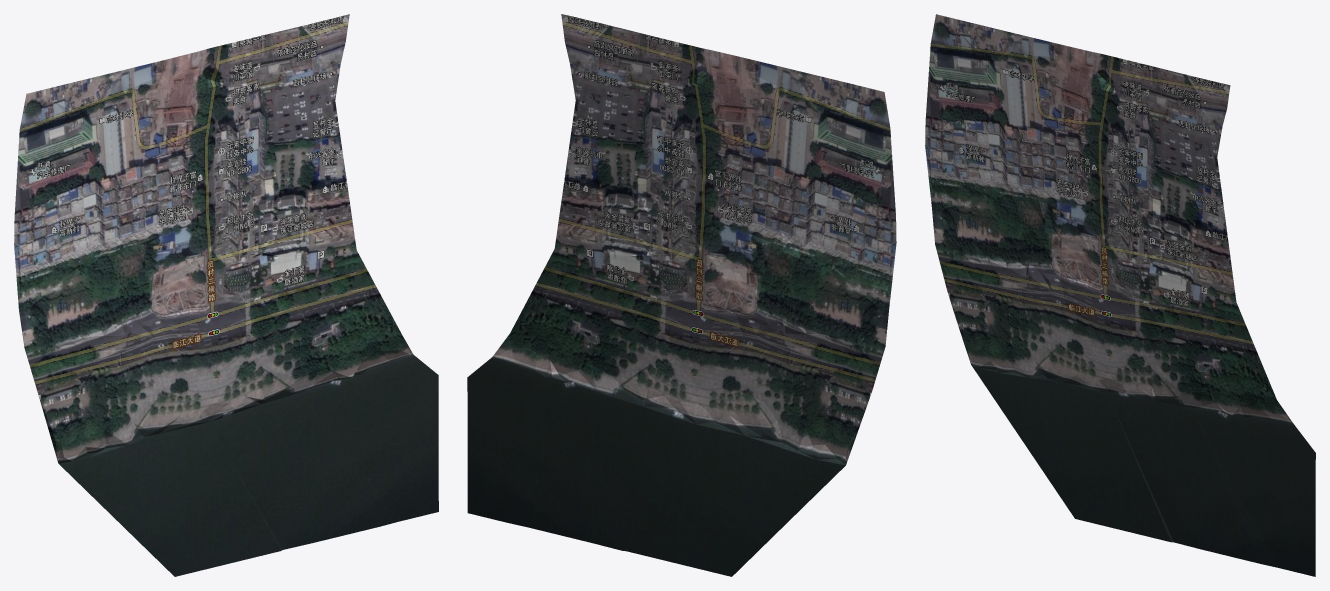
3 views of the same model, side by side, from view 1: azimuth 30°, elevation 25°; view 2: azimuth 150°, elevation 25°; view 3: azimuth 330°, elevation 25° (orthographic). The views are drawn at different scales.
Parts seen in each view (by area): view 1: 0_2_1_1_1_3; view 2: 0_2_1_1_1_3; view 3: 0_2_1_1_1_3.
Part boxes in pixels (bbox=[...]): 0_2_1_1_1_3: bbox=[14, 14, 438, 576]; 0_2_1_1_1_3: bbox=[467, 14, 896, 576]; 0_2_1_1_1_3: bbox=[925, 14, 1315, 576].
Size of the model in its own units: 417 by 486 by 8.65.
Materials: 1 (1 with a texture image).
